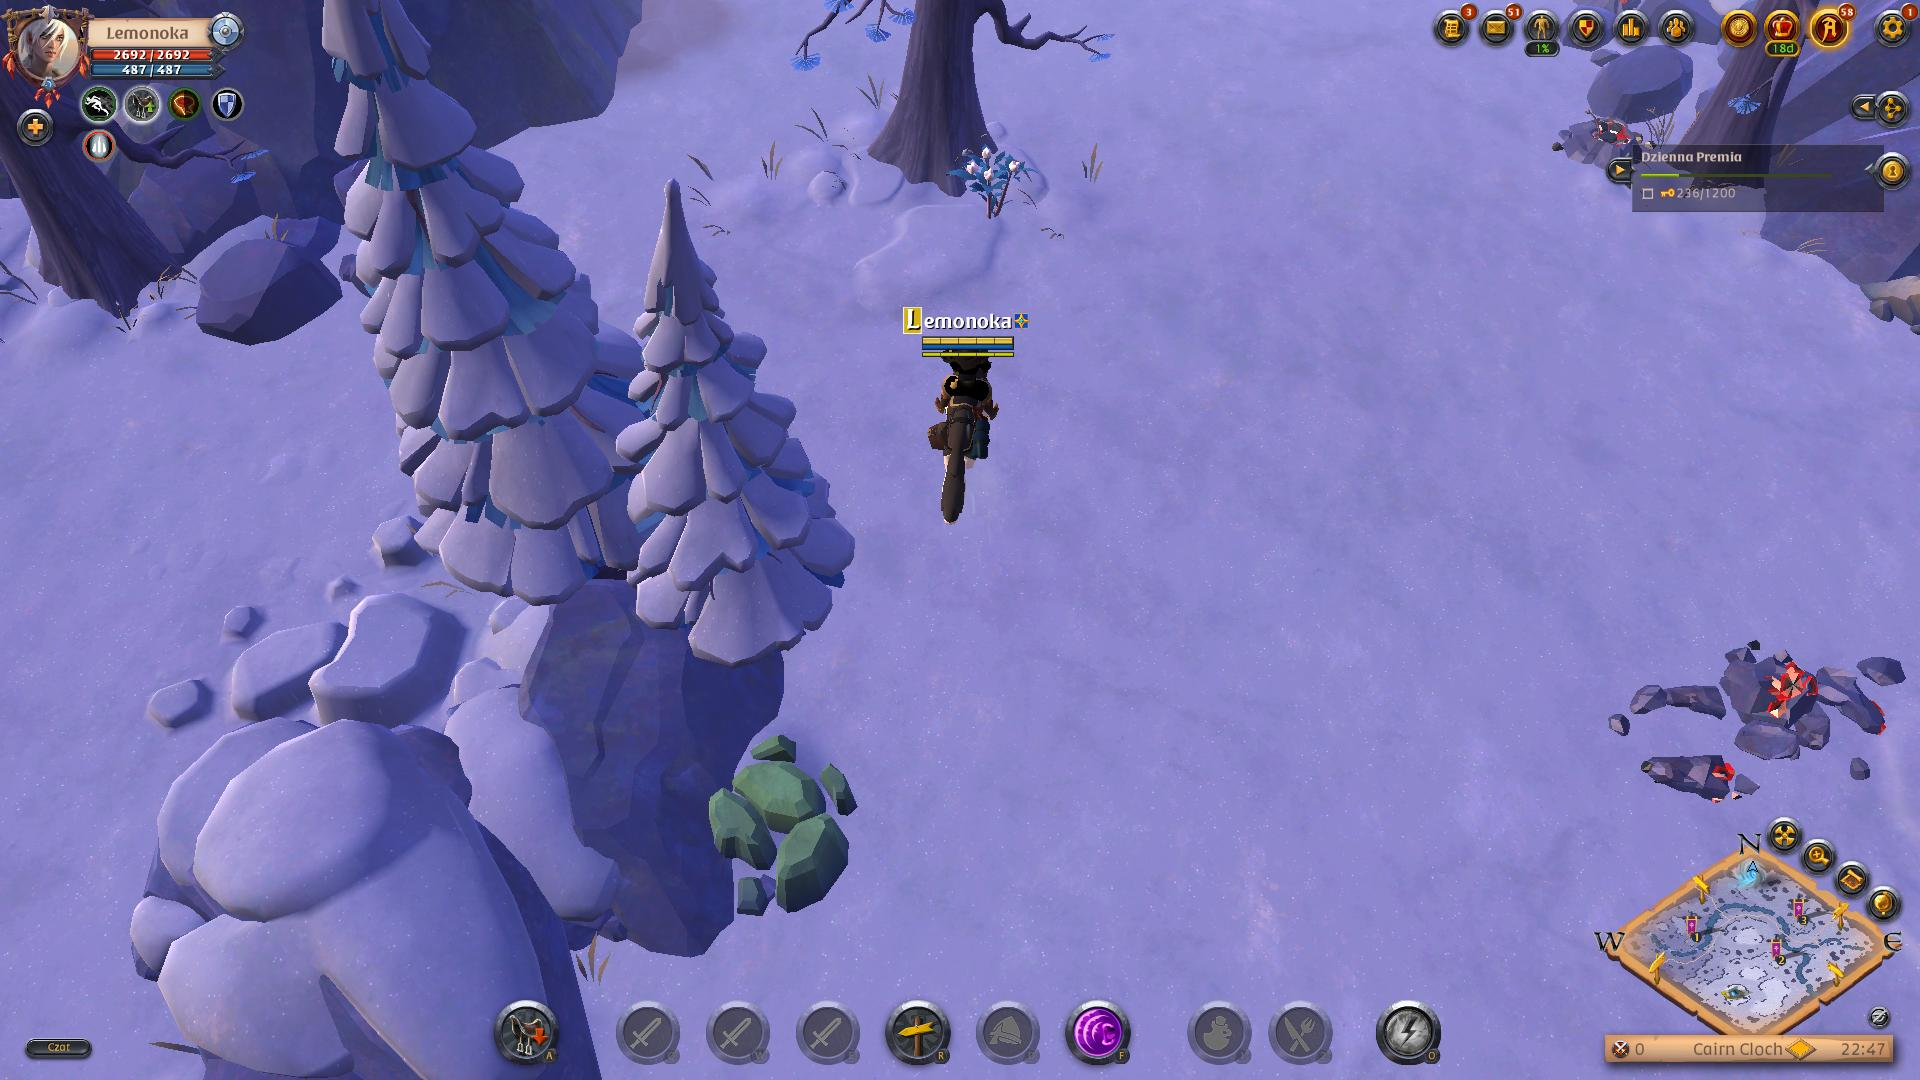fiber tier 4: (955, 144, 1030, 225)
rock tier 3: (705, 735, 864, 915)
